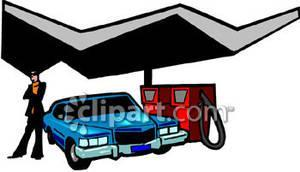car: (39, 91, 190, 172)
person: (3, 65, 54, 161)
